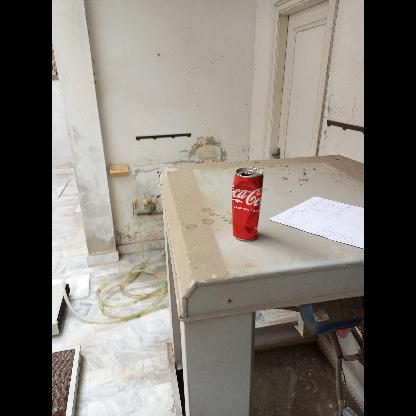Dent_Can: (232, 180, 260, 232)
Lid_Open: (242, 166, 258, 176)
Tin_Can: (232, 166, 264, 242)
